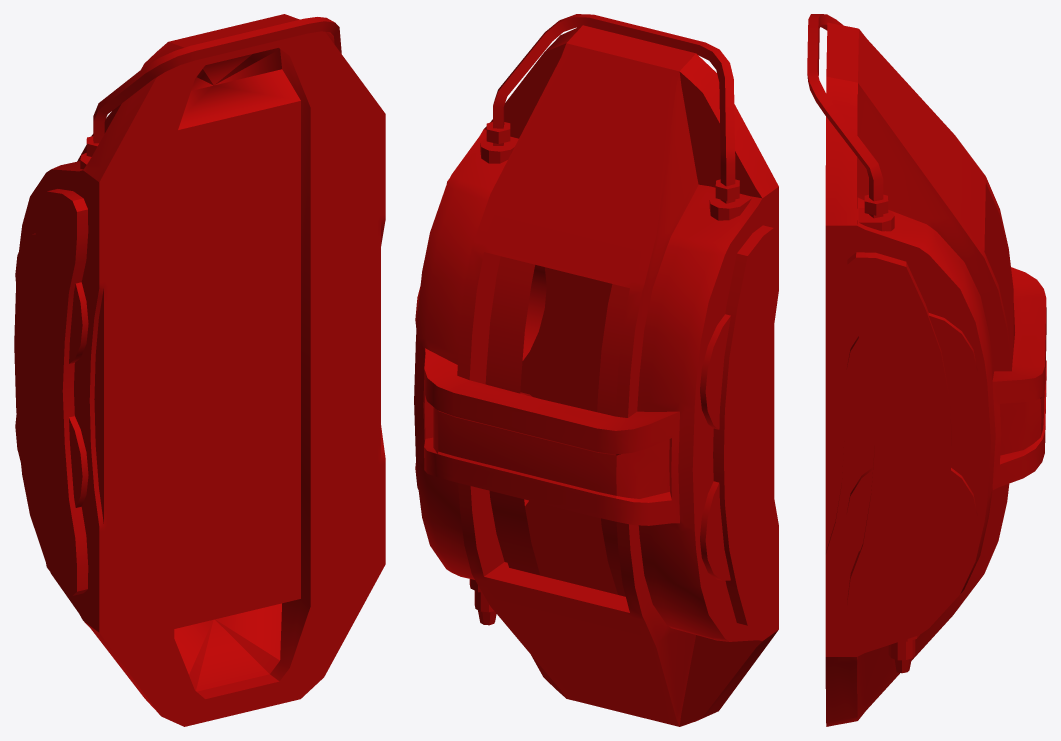
Rendered from merc-ch__wheel1_red_0.002.glb.
3 views of the same model, side by side, from view 1: azimuth 30°, elevation 25°; view 2: azimuth 150°, elevation 25°; view 3: azimuth 270°, elevation 25° (orthographic). The views are drawn at different scales.
Parts seen in each view (by area): view 1: merc-ch__wheel1_red_0.002; view 2: merc-ch__wheel1_red_0.002; view 3: merc-ch__wheel1_red_0.002.
Part boxes in pixels (box(x1,y1,x2,y2)): merc-ch__wheel1_red_0.002: box(14, 14, 385, 726); merc-ch__wheel1_red_0.002: box(414, 14, 778, 726); merc-ch__wheel1_red_0.002: box(807, 14, 1046, 726).
Size of the model in its own units: 0.1888 by 0.4008 by 0.1329.
